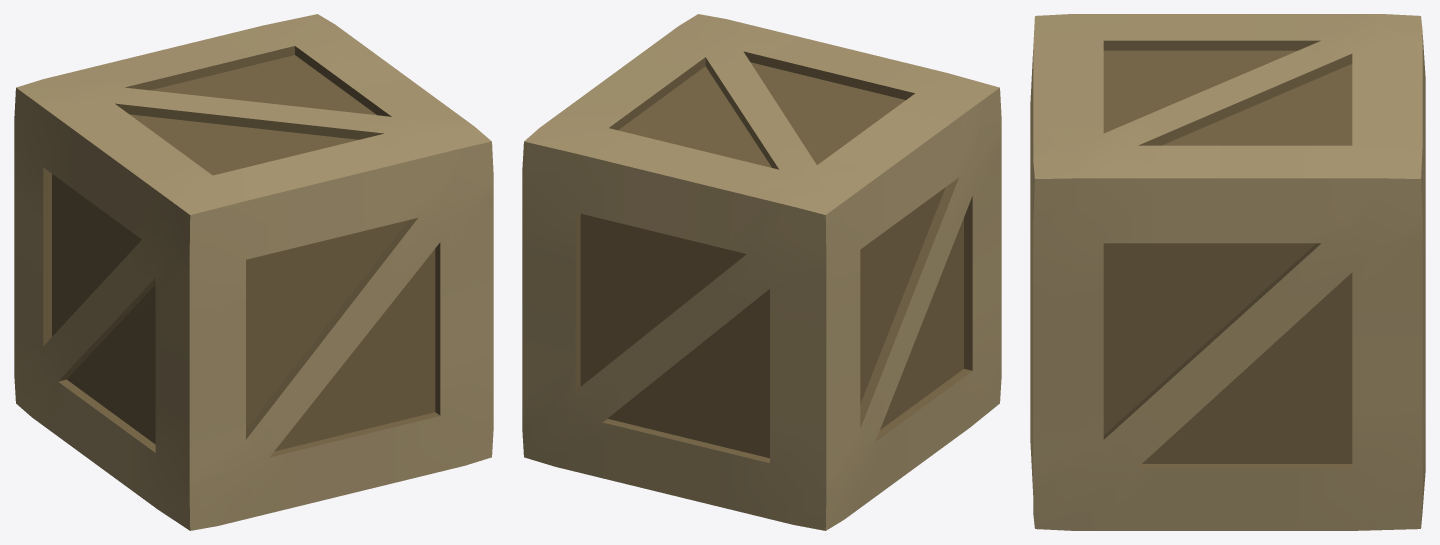
The model's file is Box crate.fbx.
3 renders of one model, left to right at view 1: azimuth 30°, elevation 25°; view 2: azimuth 150°, elevation 25°; view 3: azimuth 270°, elevation 25°, orthographic. The views are drawn at different scales.
Visible parts, largest first — view 1: pCube1; view 2: pCube1; view 3: pCube1.
Boxes of the visible parts, <box> form: pCube1: <box>14,14,493,530</box>; pCube1: <box>522,14,1001,530</box>; pCube1: <box>1030,14,1425,530</box>.
Size of the model in its own units: 3.01 by 3.01 by 3.01.
